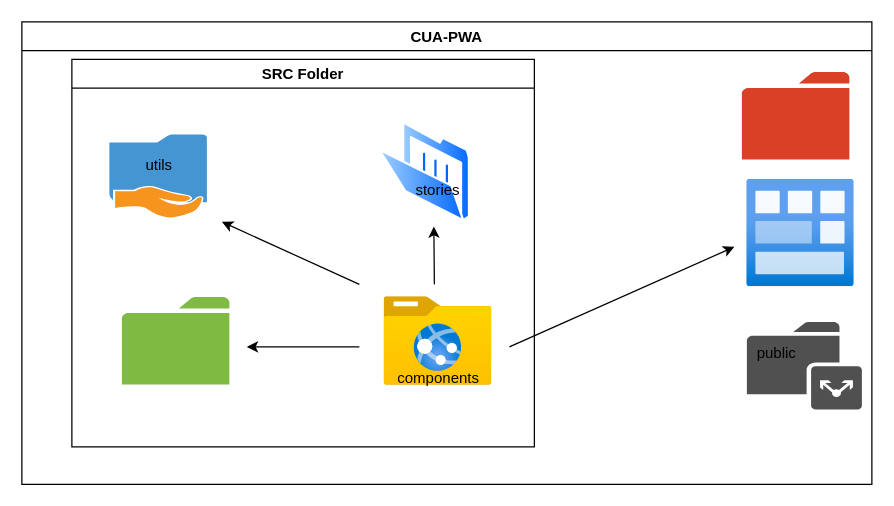
The diagram is 894 pixels wide and 506 high, and some of its shapes have lost their labels. Here are the shapes that lost their labels. From the top down, the box of each, then its label:
(741, 71, 849, 159): .storybook
(746, 179, 854, 286): node_modules
(121, 296, 229, 384): services
